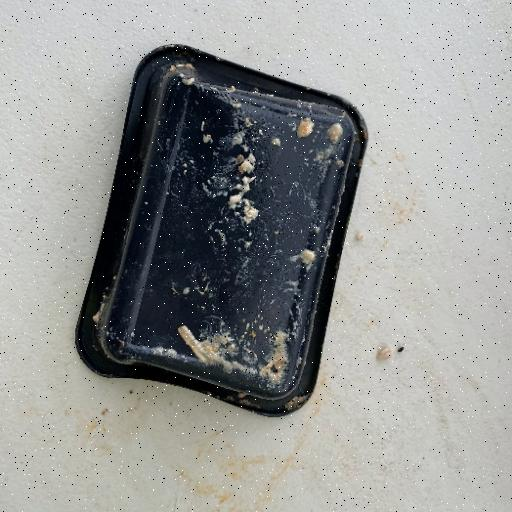Plastic: (74, 42, 370, 417)
